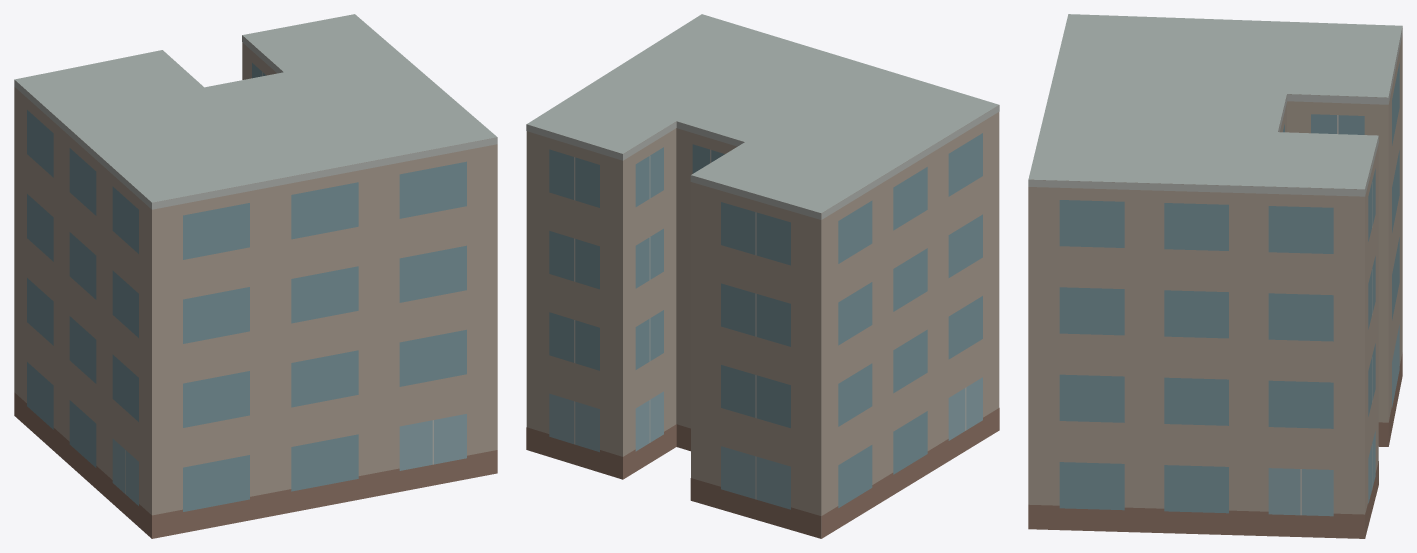
Rendered from survey-upis-32681518.glb.
The picture shows the model from 3 angles, left to right: view 1: azimuth 30°, elevation 25°; view 2: azimuth 150°, elevation 25°; view 3: azimuth 270°, elevation 25°; orthographic projection. The views are drawn at different scales.
Visible parts, largest first — view 1: survey-upis-32681518.tmp; view 2: survey-upis-32681518.tmp; view 3: survey-upis-32681518.tmp.
Part boxes in pixels (left/top/right/bottom): survey-upis-32681518.tmp: left=14, top=14, right=497, bottom=538; survey-upis-32681518.tmp: left=526, top=14, right=999, bottom=538; survey-upis-32681518.tmp: left=1028, top=14, right=1402, bottom=538.
Bounding box in the file's own units: 12.6 × 11.7 × 11.36.
